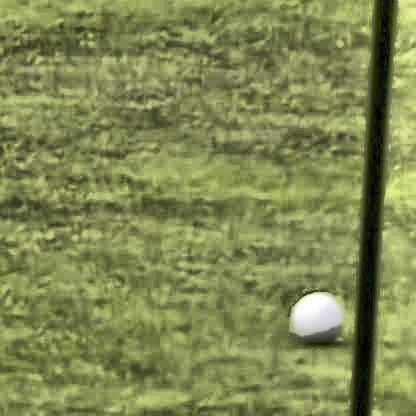golfball: (287, 289, 341, 340)
